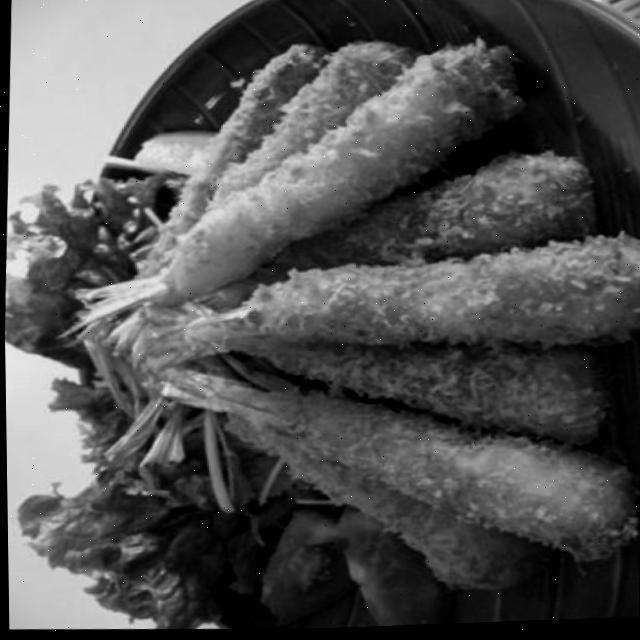炸货点心: (39, 5, 640, 626)
熟制海鲜: (39, 5, 640, 626)
